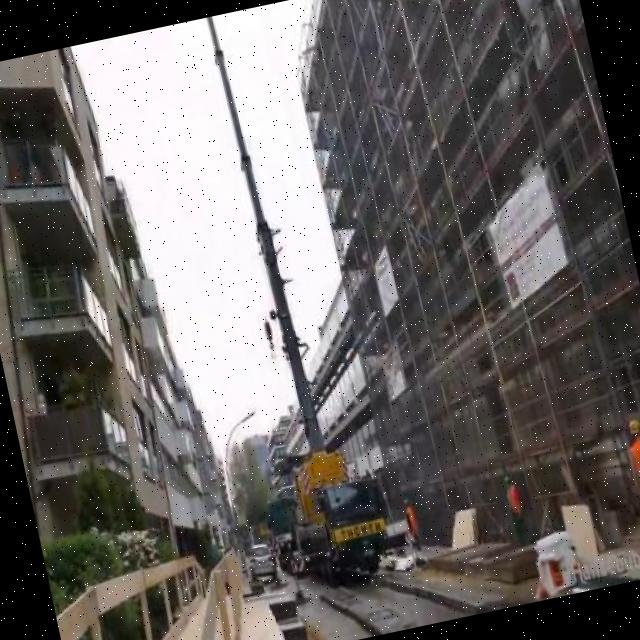Mobile Crane: (182, 3, 396, 594)
